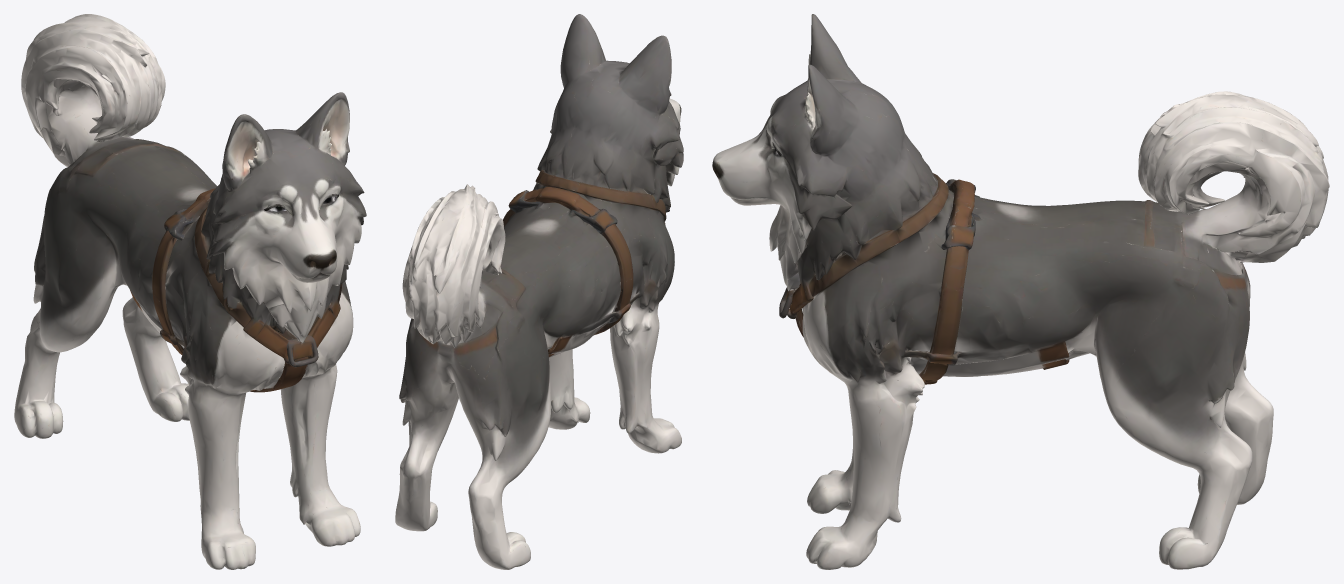
The model's file is detail_7.glb.
3 views of the same model, side by side, from view 1: azimuth 30°, elevation 25°; view 2: azimuth 150°, elevation 25°; view 3: azimuth 270°, elevation 25° (orthographic). The views are drawn at different scales.
Size of the model in its own units: 0.3296 by 0.8809 by 0.9999.
1 material, 1 textured.
